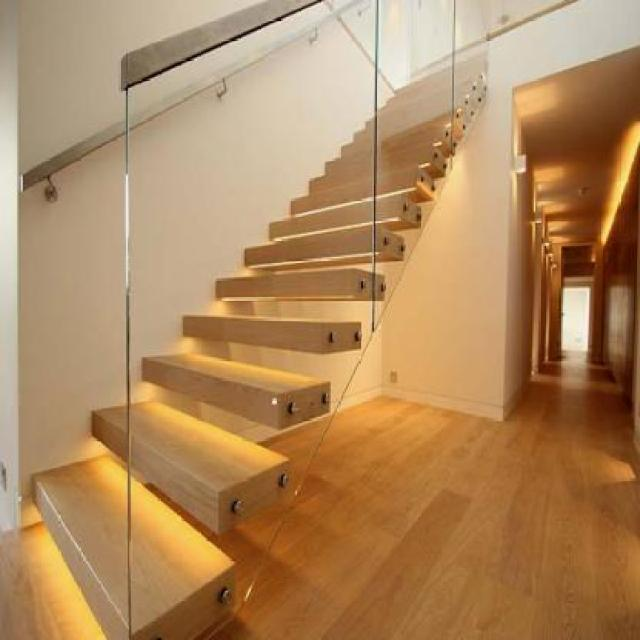stair: (8, 9, 494, 638)
